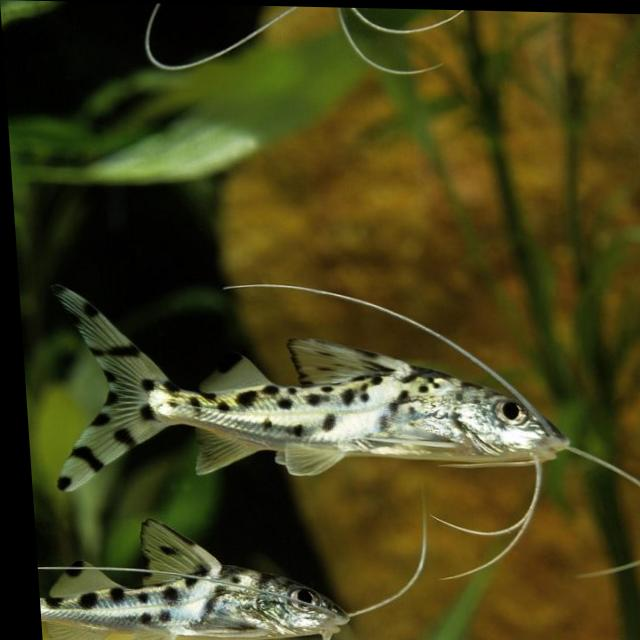fish: (25, 256, 584, 519), (26, 502, 360, 640), (121, 2, 543, 65)
